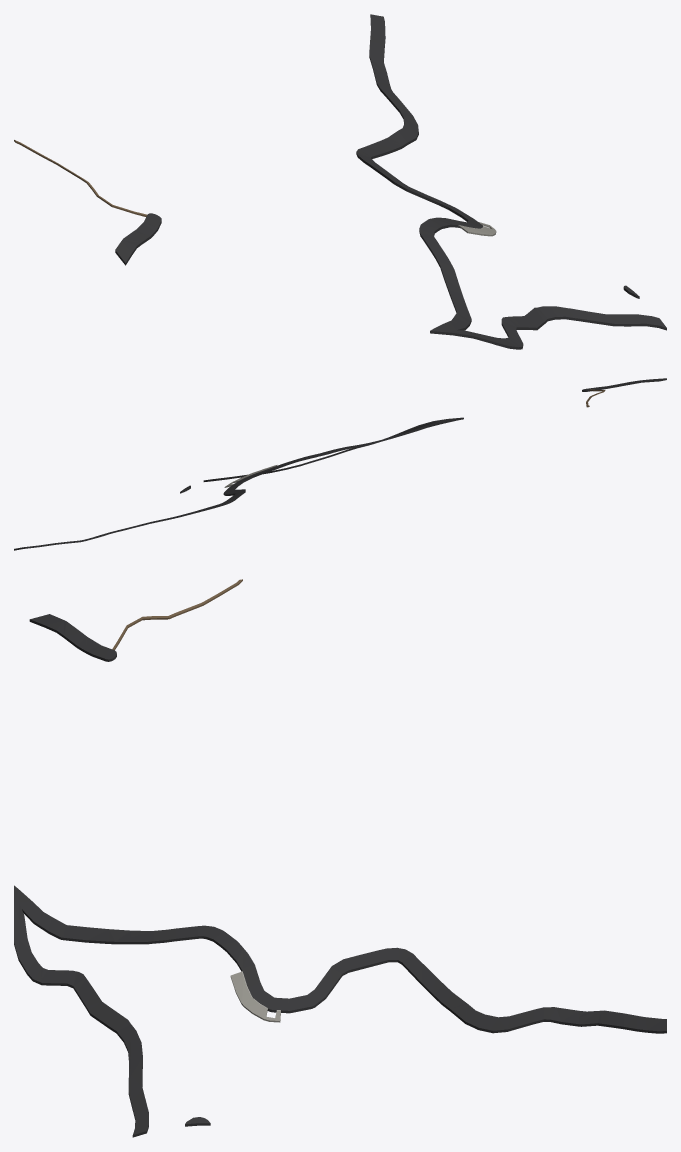
3 renders of one model, top to bottom at view 1: azimuth 30°, elevation 25°; view 2: azimuth 150°, elevation 25°; view 3: azimuth 270°, elevation 25°, orthographic. The views are drawn at different scales.
Bounding box in the file's own units: 293 × 138 × 292.
